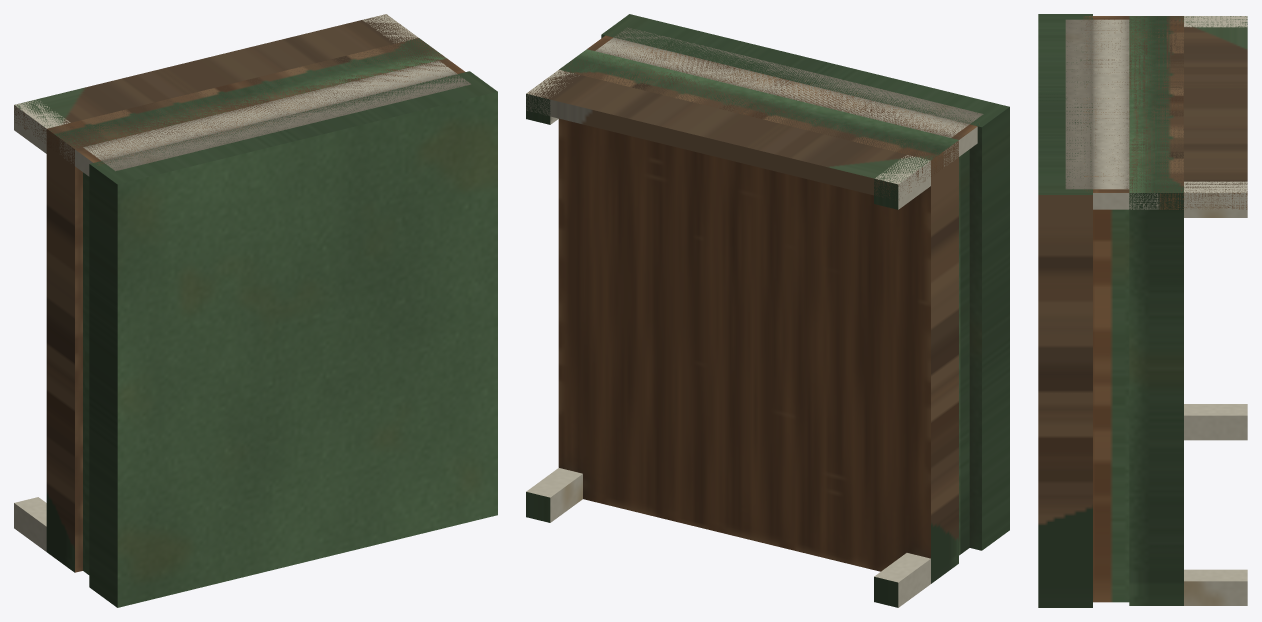
The model's file is bed_green.obj.
The picture shows the model from 3 angles, left to right: view 1: azimuth 30°, elevation 25°; view 2: azimuth 150°, elevation 25°; view 3: azimuth 270°, elevation 25°; orthographic projection. The views are drawn at different scales.
Size of the model in its own units: 0.94 by 1 by 0.46.
1 material, 1 textured.
